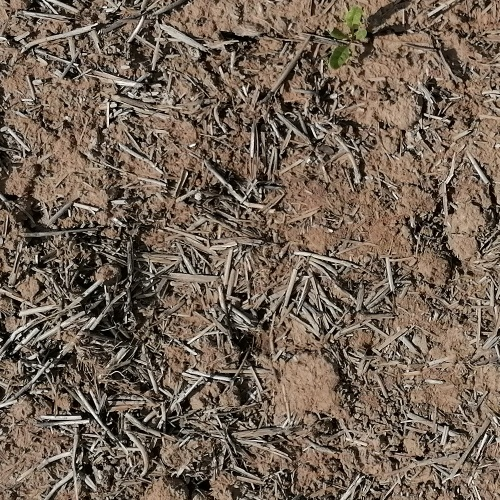beet: (330, 6, 362, 69)
